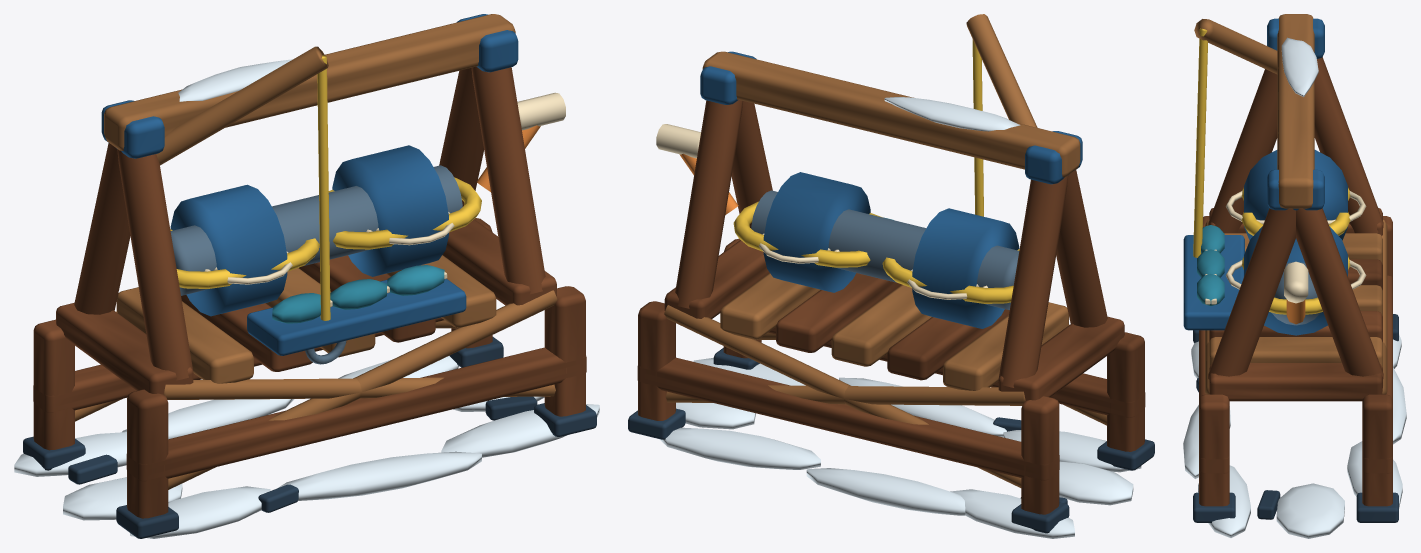
Rendered from fishing_rack.glb.
3 renders of one model, left to right at view 1: azimuth 30°, elevation 25°; view 2: azimuth 150°, elevation 25°; view 3: azimuth 270°, elevation 25°, orthographic. The views are drawn at different scales.
Parts seen in each view (by area): view 1: fishing_rack; view 2: fishing_rack; view 3: fishing_rack.
Boxes of the visible parts, bbox=[...] form: fishing_rack: bbox=[14, 14, 599, 538]; fishing_rack: bbox=[628, 14, 1154, 538]; fishing_rack: bbox=[1183, 14, 1406, 538].
Size of the model in its own units: 3.02 by 2.59 by 1.31.
